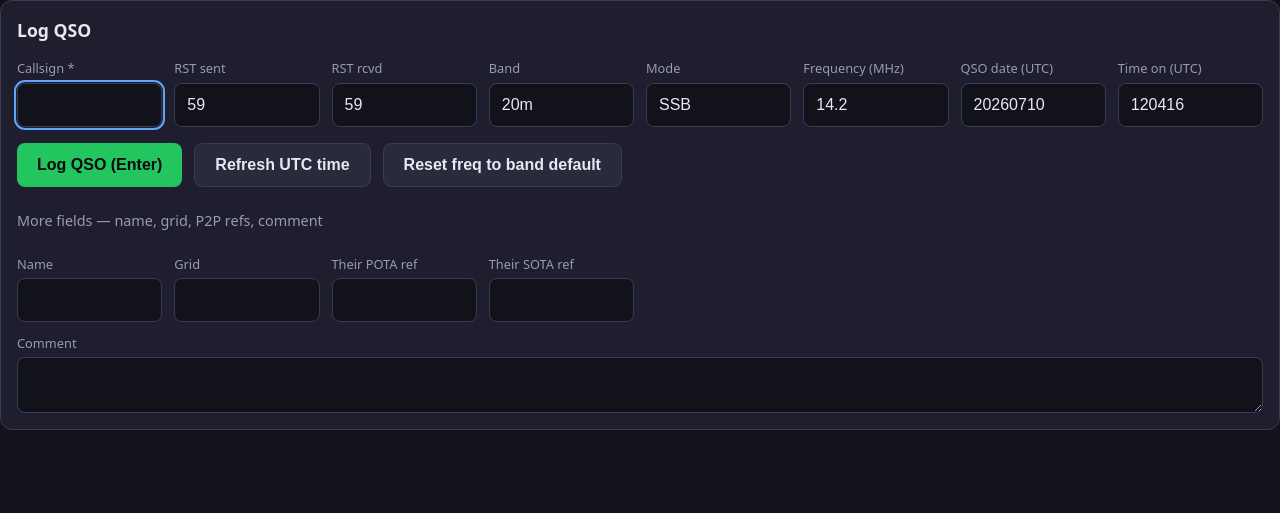
pending QSO saves › prevents a second submission while the first save is pending
In the field labelled "Callsign *": [90, 105] box x1=17 y1=83 x2=162 y2=127, type "W1AW"
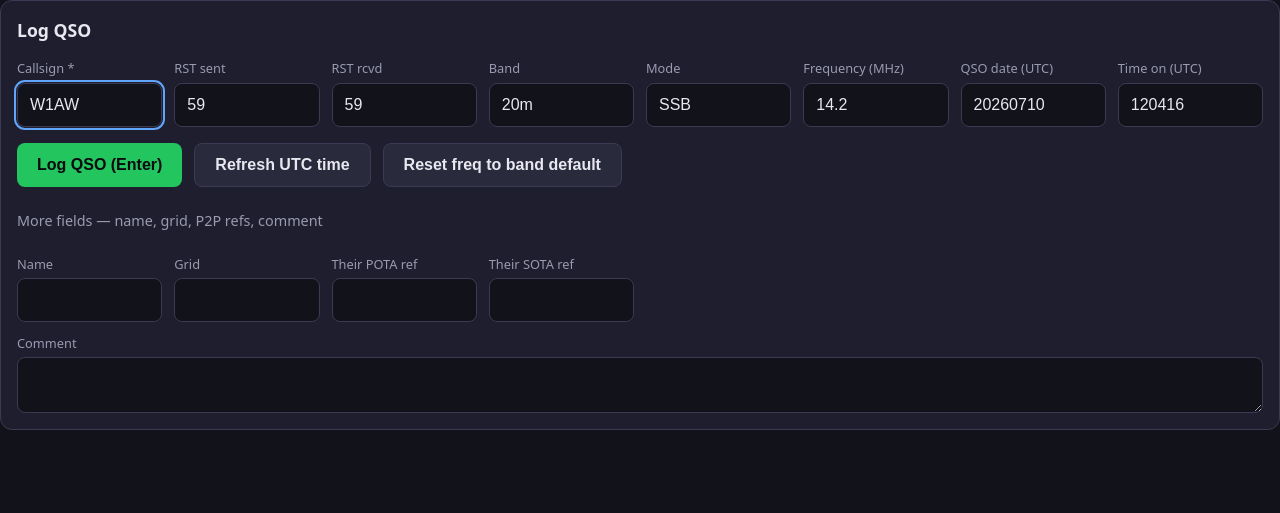
Click the button "Log QSO (Enter)": [100, 165] box x1=17 y1=143 x2=182 y2=187
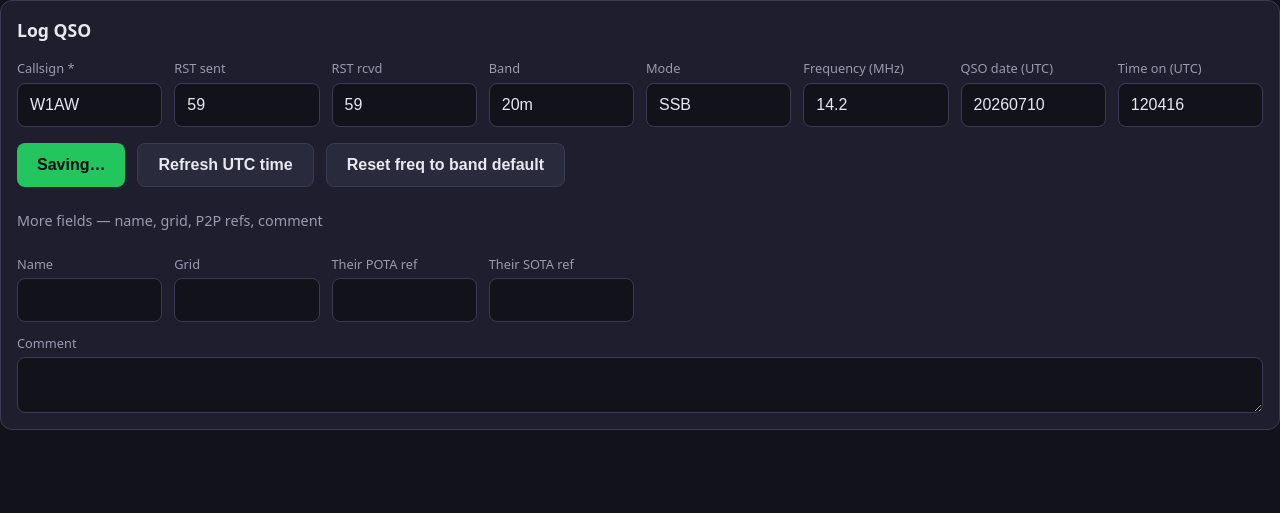
Check: the button "Saving…" is disabled
Click the button "Saving…": [71, 165] box x1=17 y1=143 x2=126 y2=187
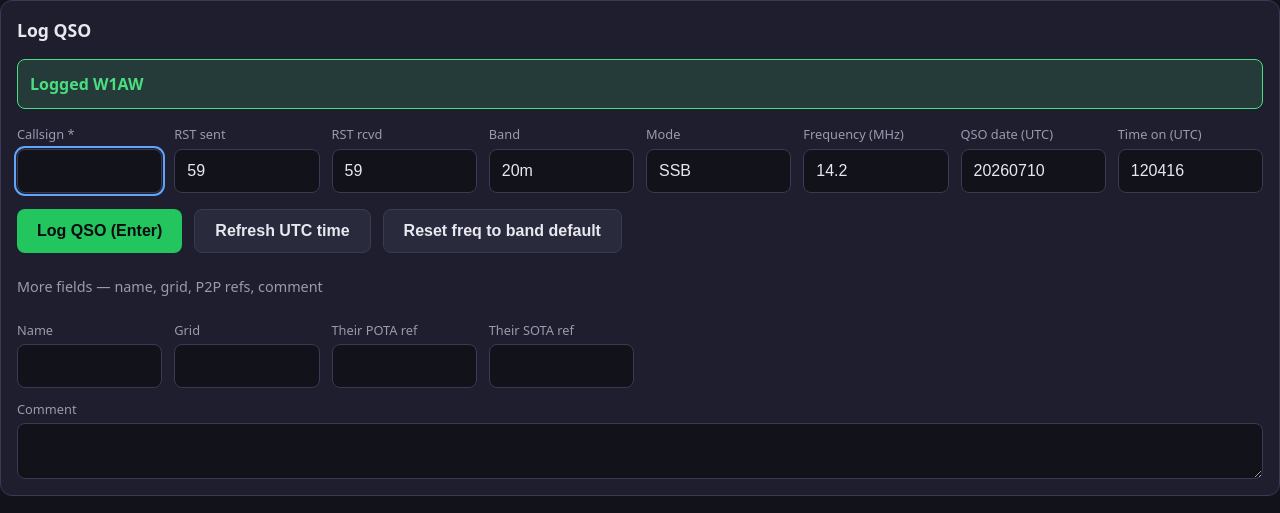
Check: the button "Log QSO (Enter)" is enabled, box x1=17 y1=209 x2=182 y2=253
Check: the text "Logged W1AW" is shown, box x1=17 y1=59 x2=1263 y2=109
